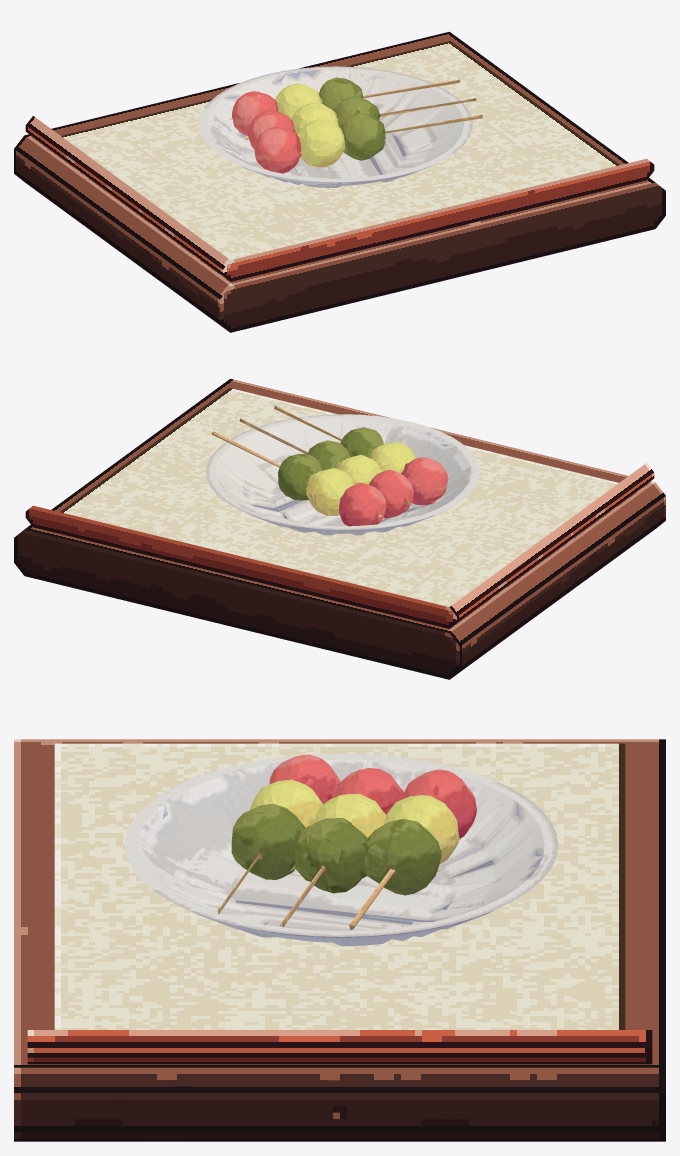
File: dango.glb
3 renders of one model, top to bottom at view 1: azimuth 30°, elevation 25°; view 2: azimuth 150°, elevation 25°; view 3: azimuth 270°, elevation 25°, orthographic. The views are drawn at different scales.
Visible parts, largest first — view 1: mat, base, model_dango, rim; view 2: mat, base, model_dango, rim; view 3: mat, base, model_dango, rim.
Part boxes in pixels (bbox=[...]): mat: bbox=[61, 41, 619, 259]; base: bbox=[14, 31, 665, 332]; model_dango: bbox=[199, 66, 482, 187]; rim: bbox=[25, 116, 654, 281]; mat: bbox=[60, 388, 618, 606]; base: bbox=[14, 378, 665, 679]; model_dango: bbox=[206, 405, 479, 535]; rim: bbox=[25, 463, 654, 628]; mat: bbox=[54, 743, 625, 1029]; base: bbox=[14, 739, 665, 1141]; model_dango: bbox=[125, 753, 558, 946]; rim: bbox=[27, 1030, 652, 1064].
Bounding box in the file's own units: 30 × 6.91 × 24.
2 materials, 2 textured.
